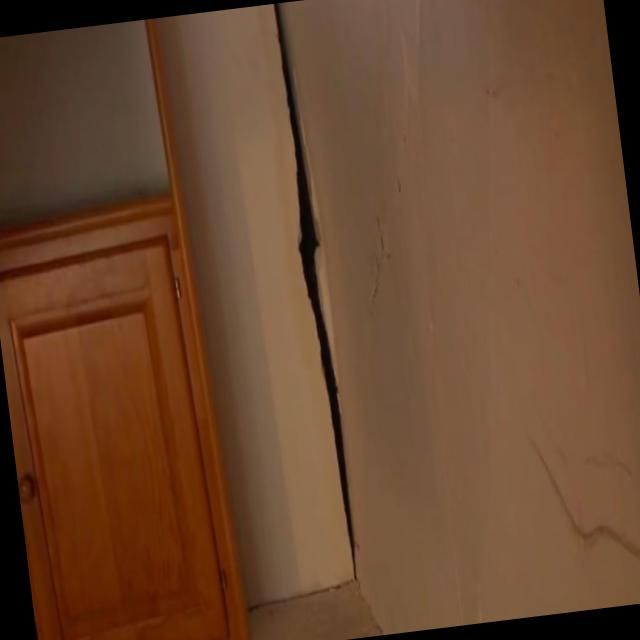crack: (275, 10, 356, 584)
